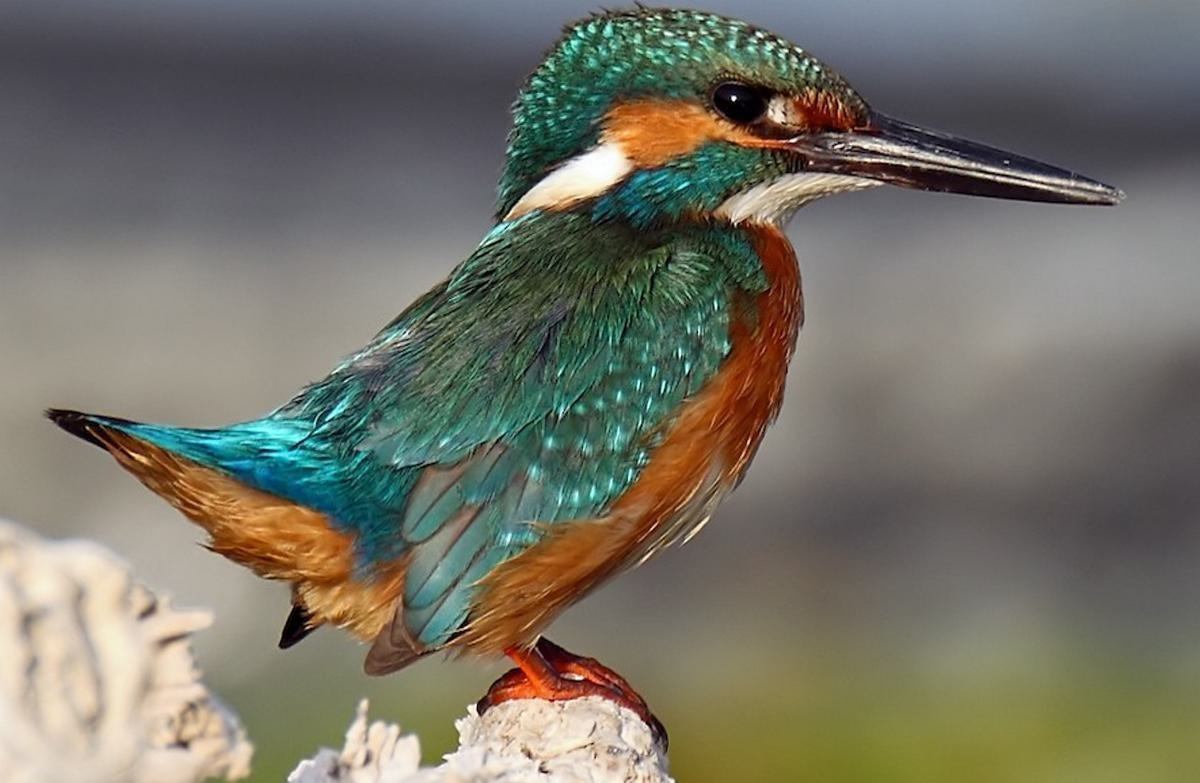kingfisher: (67, 14, 1119, 726)
